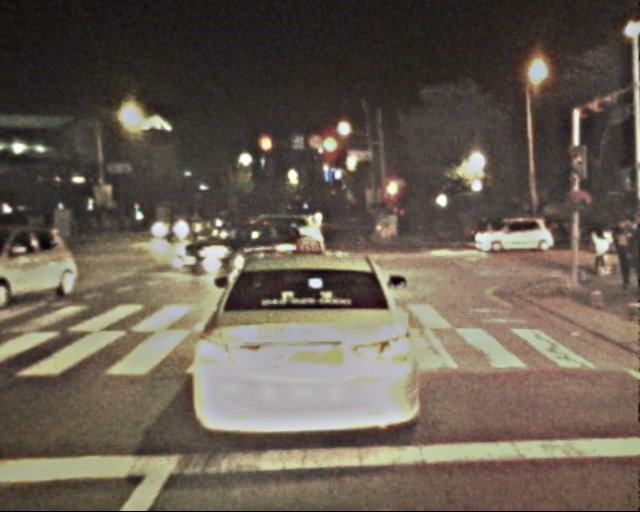person: (609, 220, 638, 291), (204, 208, 238, 237), (472, 216, 499, 244), (591, 229, 608, 271)
